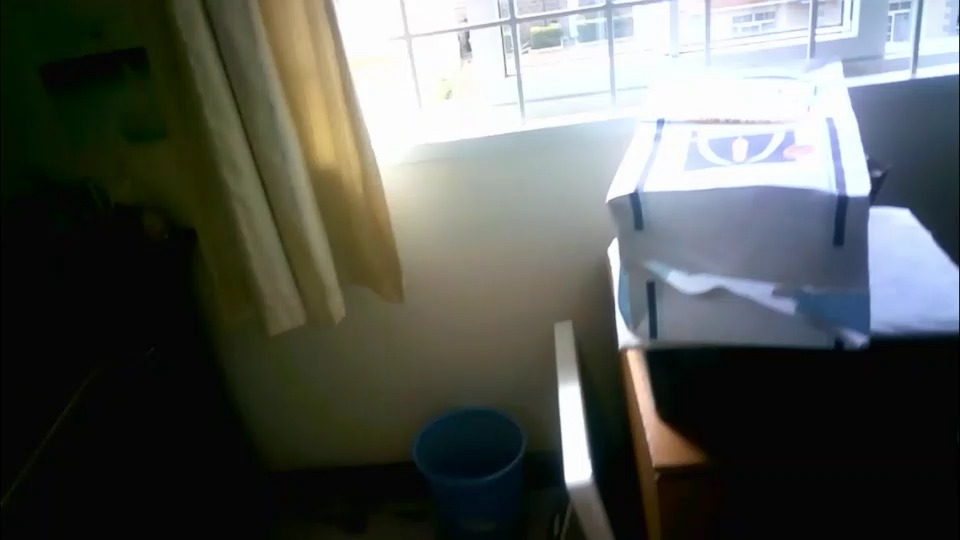wheat_flour_blue_label: (606, 63, 869, 355)
